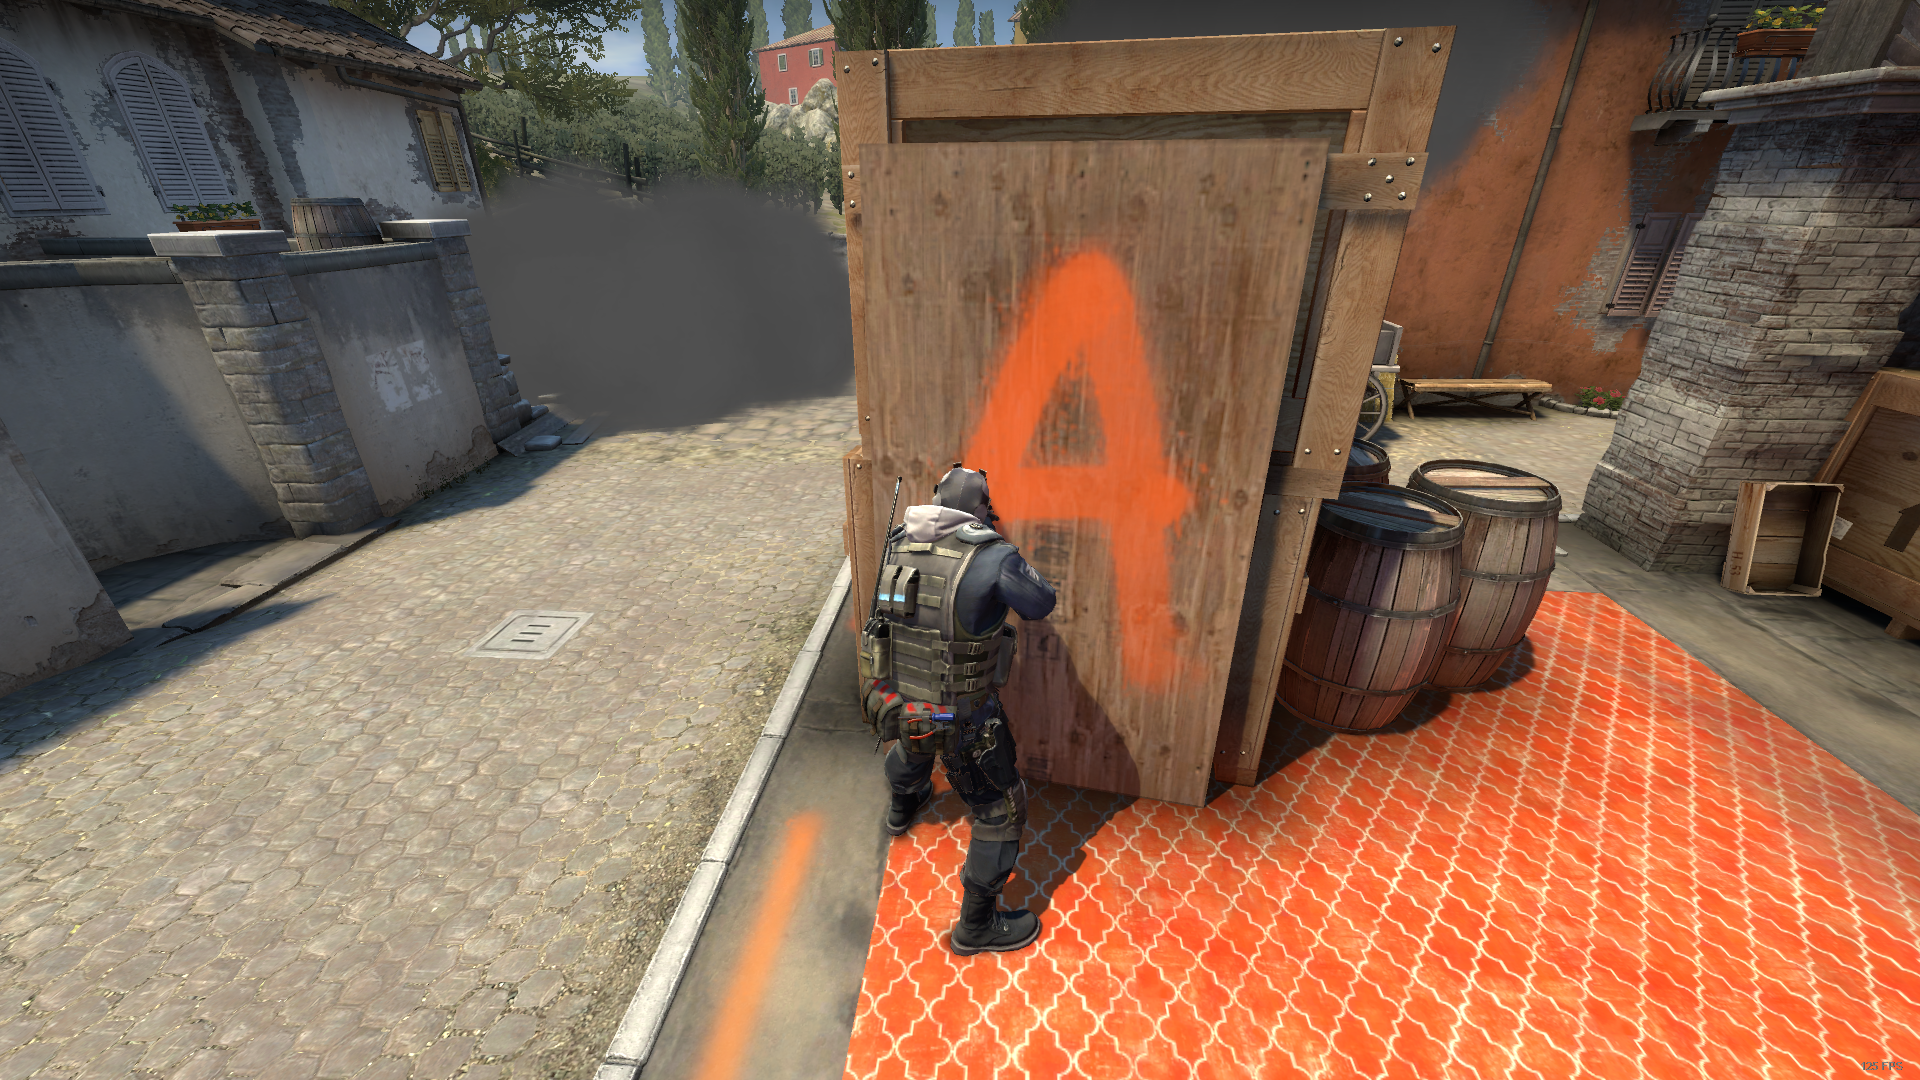ct: (866, 462, 1056, 949)
